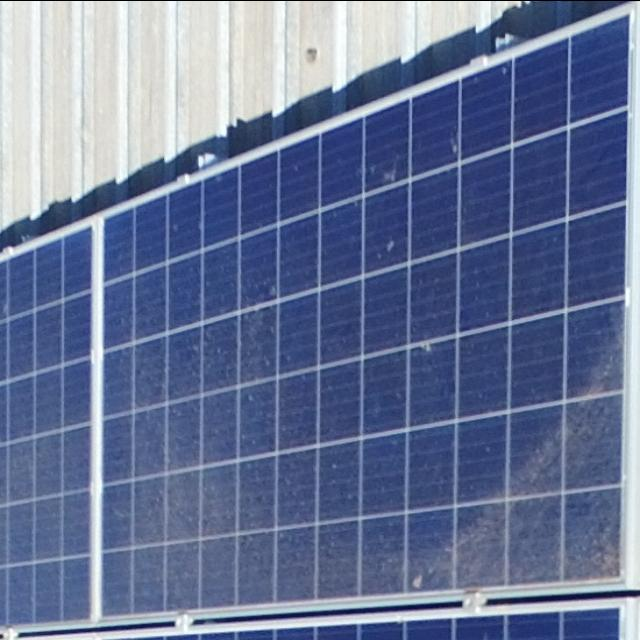Dust: (425, 355, 640, 587), (100, 443, 356, 606)
bird-droppings: (374, 160, 404, 190), (405, 573, 433, 592), (442, 134, 466, 154), (382, 240, 402, 254), (262, 283, 280, 295), (498, 62, 510, 78)
